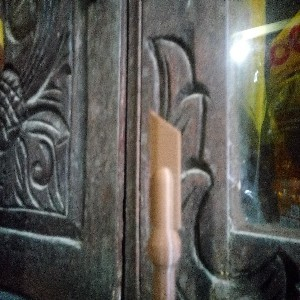cutter: (145, 108, 183, 300)
